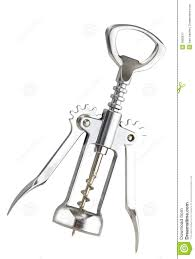bottleopener: (7, 23, 167, 252)
